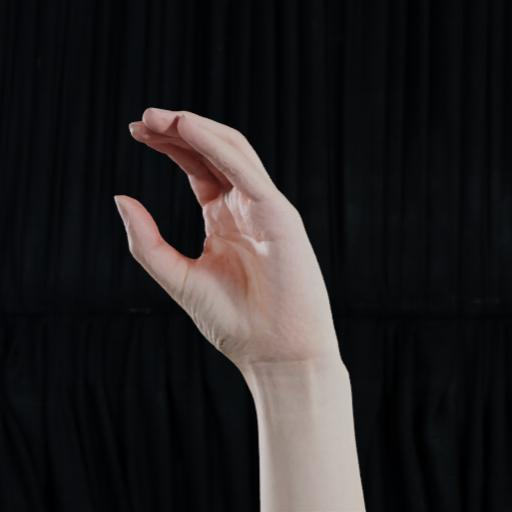C: (112, 103, 350, 385)
